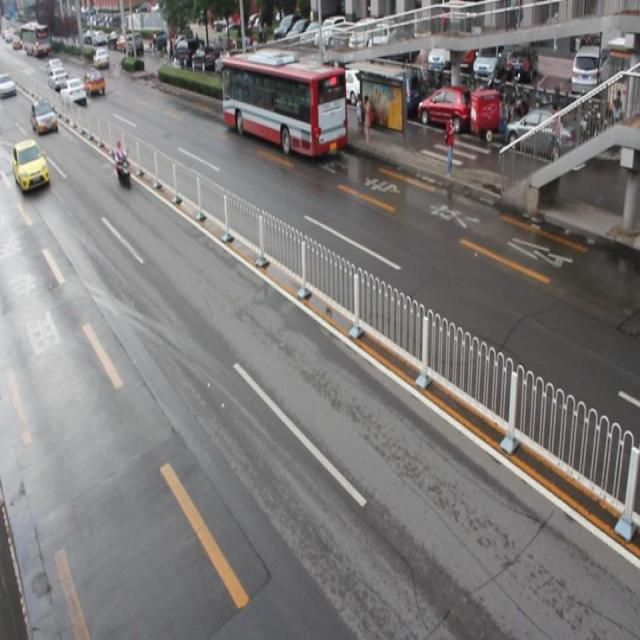car: (11, 138, 51, 195)
van: (222, 53, 346, 159)
